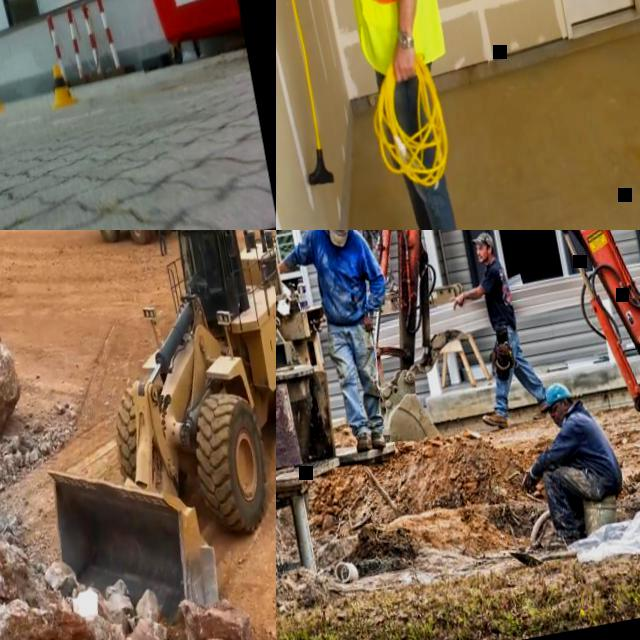machinery: (1, 230, 276, 640), (332, 230, 640, 545), (75, 230, 194, 256)
no_helmet: (538, 378, 574, 404), (472, 230, 497, 248), (326, 230, 356, 244)
no_mask: (478, 250, 492, 262), (554, 416, 564, 428)
no_vest: (309, 230, 369, 323), (563, 408, 614, 477), (482, 262, 516, 324)
person: (276, 0, 487, 230), (276, 230, 415, 457), (502, 372, 633, 556), (439, 230, 553, 432), (326, 230, 410, 296), (200, 235, 222, 282)
safety_cone: (46, 61, 78, 106), (0, 84, 4, 111)
vest: (318, 0, 448, 76)
